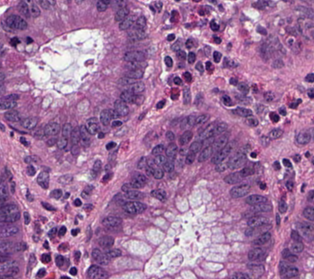nucleus: (211, 143, 232, 164), (227, 148, 245, 168), (0, 204, 19, 222), (122, 201, 145, 214), (212, 133, 228, 151), (230, 183, 249, 198), (92, 248, 109, 264), (87, 265, 107, 278), (1, 94, 18, 109), (252, 231, 270, 245), (127, 28, 146, 41), (102, 216, 121, 229), (123, 50, 145, 61), (245, 194, 267, 205), (247, 215, 267, 227), (85, 117, 99, 134), (248, 246, 265, 260), (198, 146, 213, 161), (114, 99, 128, 115), (44, 122, 60, 136), (79, 125, 90, 145), (224, 172, 242, 184), (165, 143, 177, 160), (259, 40, 269, 60), (0, 225, 18, 236), (200, 124, 214, 138), (0, 241, 14, 255), (179, 130, 192, 145), (0, 260, 16, 272), (124, 189, 143, 199), (252, 202, 271, 212), (37, 171, 48, 188), (120, 89, 134, 102), (22, 117, 37, 129), (98, 236, 113, 248), (3, 265, 18, 277), (128, 82, 144, 93), (100, 109, 111, 125), (4, 110, 20, 121), (125, 69, 142, 79), (91, 160, 101, 177), (151, 189, 166, 200), (233, 107, 251, 116), (126, 61, 146, 69), (70, 128, 80, 144), (105, 248, 121, 258), (189, 141, 202, 153), (61, 123, 72, 137), (130, 177, 144, 188), (27, 254, 35, 273), (0, 183, 7, 204), (119, 76, 135, 85), (235, 94, 251, 103), (215, 122, 227, 134), (195, 114, 208, 125), (245, 115, 258, 126), (152, 144, 165, 155), (186, 114, 196, 128), (239, 167, 253, 177), (154, 154, 166, 165), (215, 160, 227, 171), (269, 128, 282, 138), (224, 57, 236, 67), (57, 136, 67, 148), (163, 160, 173, 172), (134, 173, 146, 183), (185, 151, 194, 164), (183, 88, 190, 104), (171, 40, 181, 51), (34, 127, 44, 138), (46, 136, 57, 146), (153, 167, 163, 178), (202, 136, 214, 145), (137, 156, 146, 168), (121, 183, 133, 192), (41, 202, 54, 210), (232, 272, 249, 278), (238, 83, 248, 93), (264, 91, 274, 101), (133, 94, 143, 104), (222, 95, 232, 105), (260, 136, 270, 146), (245, 226, 255, 236), (272, 59, 283, 68), (50, 189, 61, 198), (15, 241, 26, 250), (55, 255, 64, 266), (195, 93, 202, 106), (176, 50, 186, 59), (269, 112, 278, 122), (26, 165, 35, 175), (213, 51, 221, 62), (187, 52, 195, 63), (109, 109, 118, 118), (102, 173, 111, 182), (164, 56, 172, 66), (195, 62, 203, 72), (71, 144, 79, 154), (206, 61, 213, 72), (171, 88, 178, 99), (24, 156, 35, 163), (10, 37, 19, 45), (186, 39, 194, 48), (183, 72, 191, 81), (256, 104, 264, 113), (166, 131, 174, 140), (58, 226, 66, 235), (41, 254, 50, 262), (156, 100, 164, 108), (20, 137, 28, 145), (106, 142, 115, 149), (49, 228, 56, 237), (58, 243, 67, 250), (24, 212, 29, 224), (138, 112, 145, 120), (69, 267, 76, 275), (37, 269, 45, 276), (112, 120, 121, 126), (74, 251, 80, 260), (174, 77, 181, 84), (74, 199, 81, 206), (167, 34, 174, 40), (213, 37, 220, 43), (230, 78, 237, 84), (71, 229, 78, 235), (274, 161, 279, 169), (27, 192, 32, 200), (26, 37, 32, 43), (276, 214, 279, 225), (98, 131, 103, 137), (87, 226, 89, 239), (260, 183, 265, 188), (0, 123, 3, 130), (251, 152, 255, 157), (65, 192, 69, 197), (1, 72, 3, 81), (44, 242, 47, 247)
